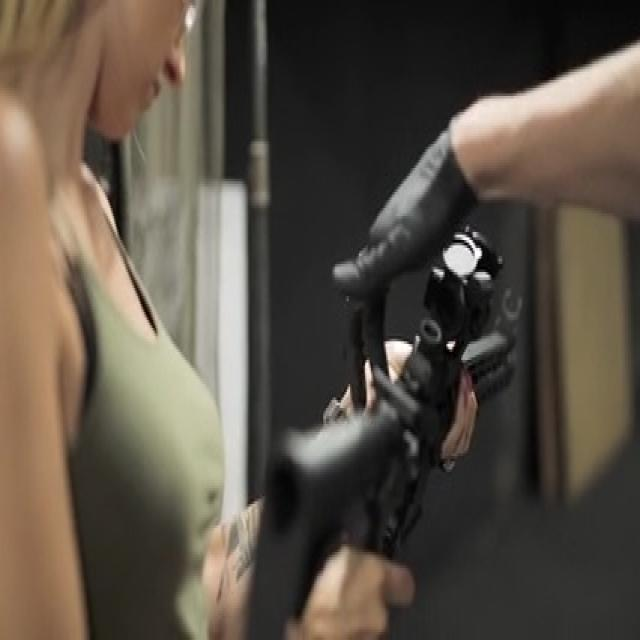Gun_Holder: (228, 217, 618, 636)
Person: (0, 0, 319, 640)
